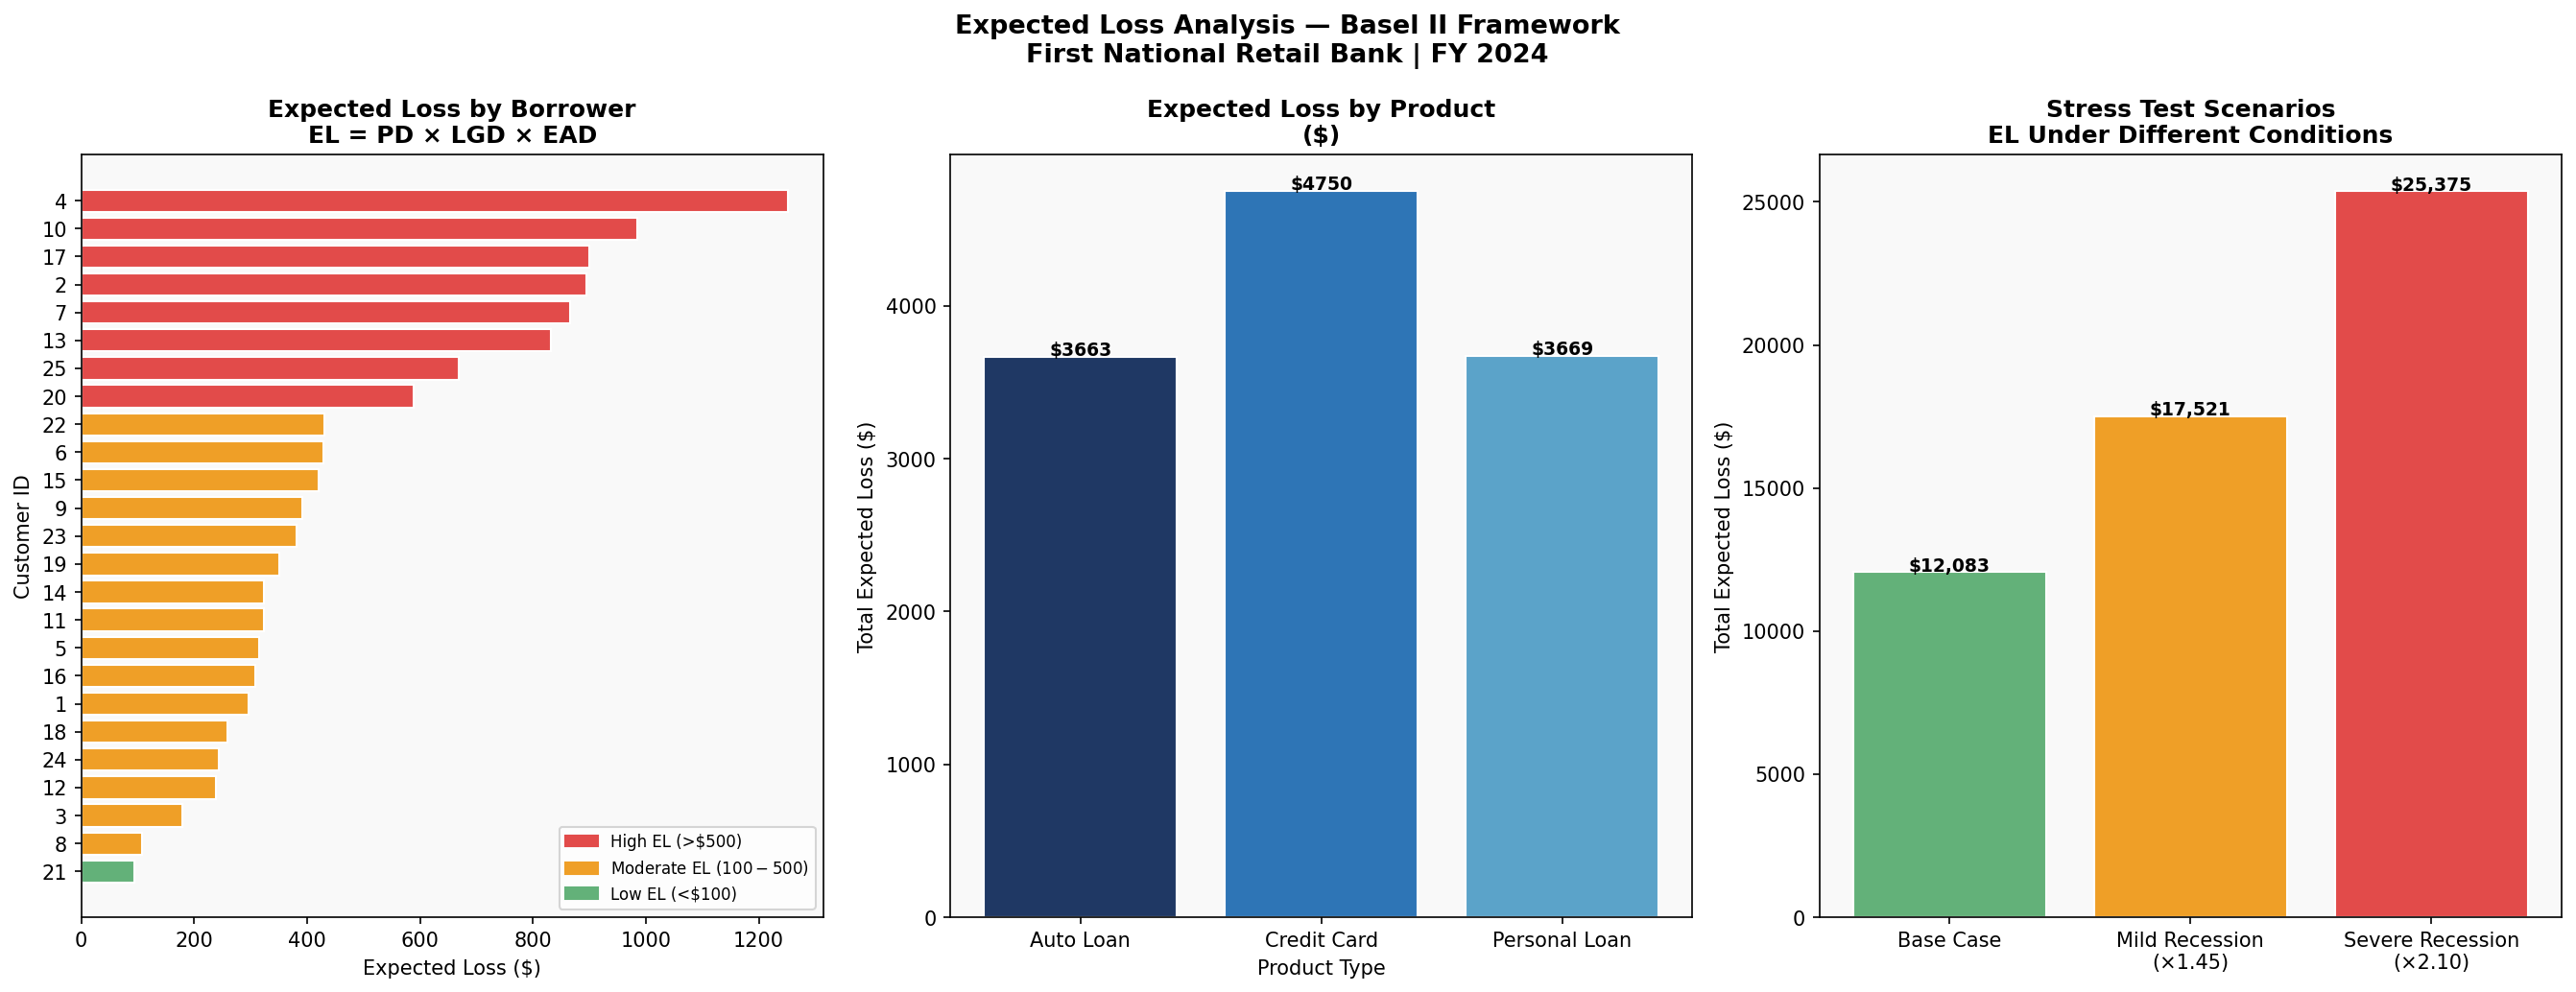

This screenshot's page, from the dashboard's own definition file:
{"tool":"powerbi","page":{"name":"Expected Loss","canvas":[1280,720],"ordinal":3},"visuals":[{"type":"textbox","box":[112,0,1056,64],"z":0},{"type":"cardVisual","fields":{"Data":["Sum(Stress_Scenarios.Expected Loss)"]},"box":[16,80,272,160],"z":1000},{"type":"cardVisual","fields":{"Data":["Sum(Stress_Scenarios.Expected Loss)"]},"box":[304,80,272,160],"z":2000},{"type":"cardVisual","fields":{"Data":["Sum(Stress_Scenarios.Expected Loss)"]},"box":[592,80,272,160],"z":3000},{"type":"clusteredBarChart","title":"Expected Loss by Borrower","fields":{"Category":["borrowers_data.customer_id"],"Y":["Sum(borrowers_data.expected_loss)"],"Series":["borrowers_data.EL Category"]},"box":[16,256,848,448],"z":4000},{"type":"clusteredColumnChart","title":"Total Expected Loss by Product Type ($)","fields":{"Category":["borrowers_data.product_type"],"Y":["Sum(borrowers_data.expected_loss)"]},"box":[880,80,384,304],"z":5000},{"type":"clusteredColumnChart","title":"Stress Test: EL Under 3 Scenarios","fields":{"Category":["Stress_Scenarios.Scenario"],"Y":["Sum(Stress_Scenarios.Expected Loss)"]},"box":[880,400,384,304],"z":6000}]}

Visuals, with their boxes on the page's 1280x720 design canvas (x1, y1, x2, y2). These are canvas units, not pixel positions in the 2576x992 screenshot, which may show the page scaled, cropped or inside an application window:
textbox: 112,0,1168,64
cardVisual - Sum(Stress_Scenarios.Expected Loss): 16,80,288,240
cardVisual - Sum(Stress_Scenarios.Expected Loss): 304,80,576,240
cardVisual - Sum(Stress_Scenarios.Expected Loss): 592,80,864,240
"Expected Loss by Borrower" clusteredBarChart: 16,256,864,704
"Total Expected Loss by Product Type ($)" clusteredColumnChart: 880,80,1264,384
"Stress Test: EL Under 3 Scenarios" clusteredColumnChart: 880,400,1264,704
